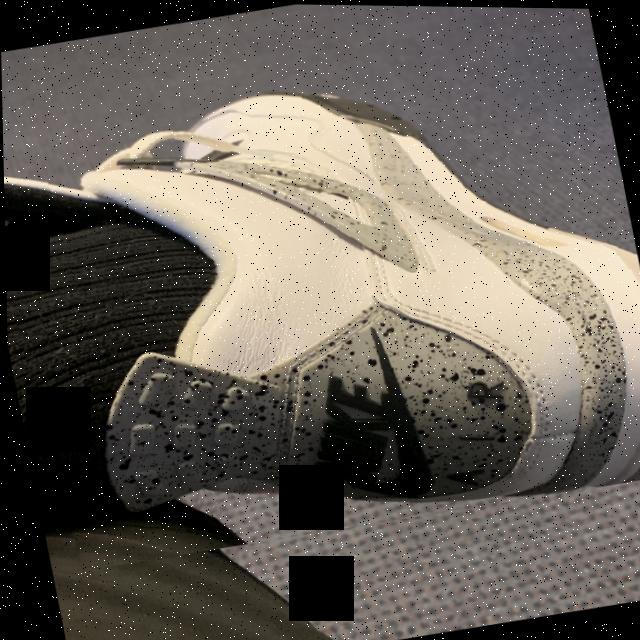shoe: (0, 24, 640, 582)
